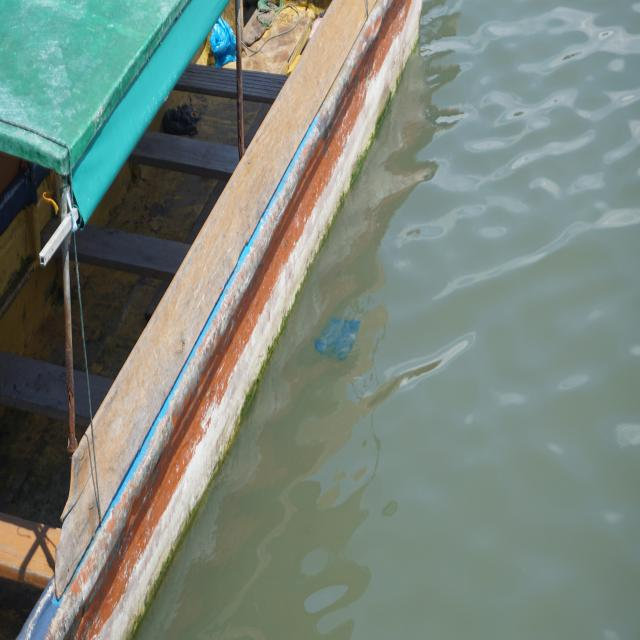Kantong Plastik: (311, 310, 363, 368)
